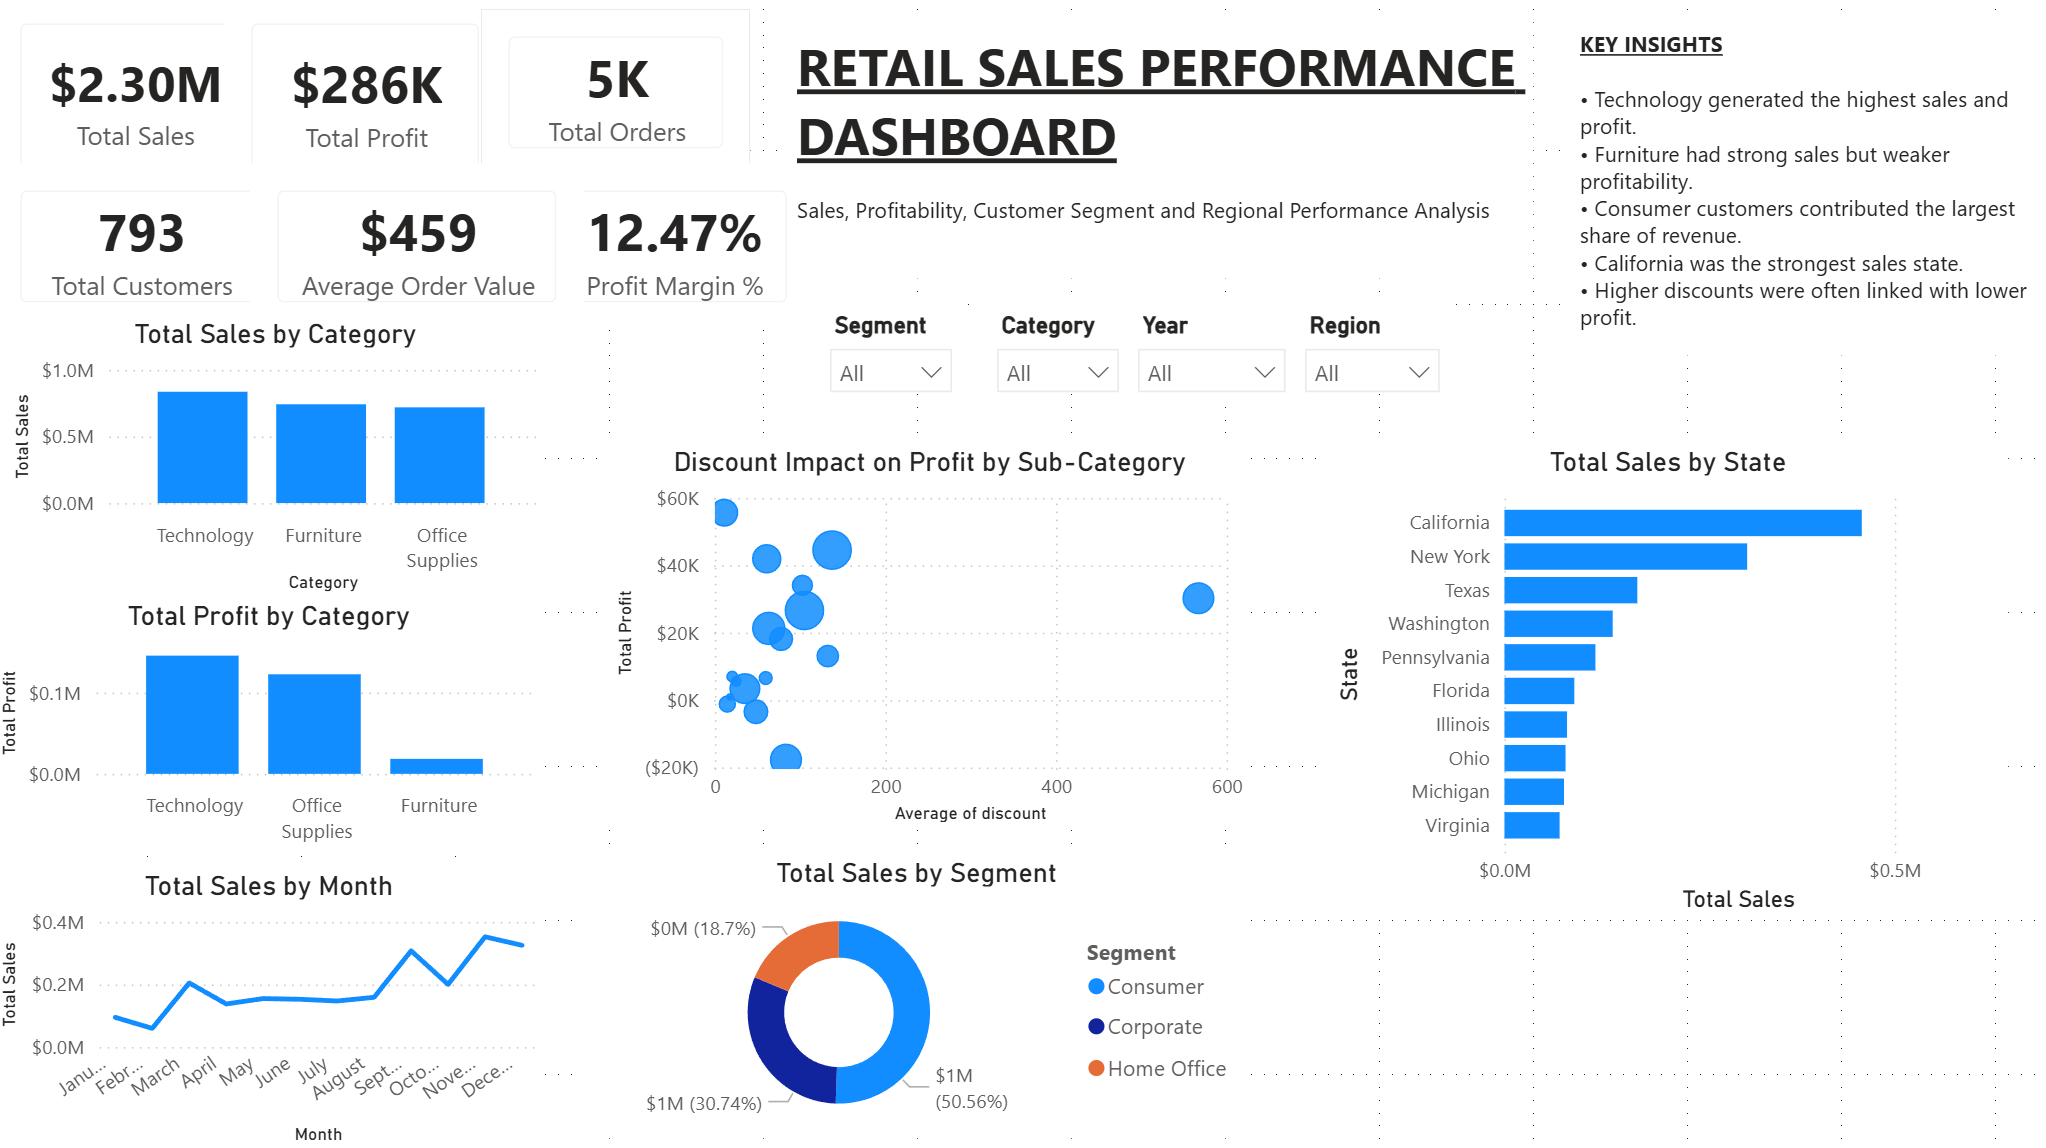

This screenshot's page, from the dashboard's own definition file:
{"tool":"powerbi","page":{"name":"Performace Dashboard","canvas":[1280,720],"ordinal":0},"visuals":[{"type":"cardVisual","fields":{"Data":["superstore_cleaned.Total Sales"]},"box":[0,0,176,128],"z":0},{"type":"cardVisual","fields":{"Data":["superstore_cleaned.Total Profit"]},"box":[144,0,176,128],"z":1000},{"type":"cardVisual","fields":{"Data":["superstore_cleaned.Total Orders"]},"box":[304,8,168,104],"z":2000},{"type":"cardVisual","fields":{"Data":["superstore_cleaned.Total Customers"]},"box":[0,104,184,104],"z":3000},{"type":"cardVisual","fields":{"Data":["superstore_cleaned.Profit Margin %"]},"box":[336,104,176,104],"z":4000},{"type":"cardVisual","fields":{"Data":["superstore_cleaned.Average Order Value"]},"box":[160,104,208,104],"z":5000},{"type":"textbox","box":[496,16,464,160],"z":6000},{"type":"lineChart","fields":{"Category":["superstore_cleaned.order_date.Variation.Date Hierarchy.Year","superstore_cleaned.order_date.Variation.Date Hierarchy.Quarter","superstore_cleaned.order_date.Variation.Date Hierarchy.Month","superstore_cleaned.order_date.Variation.Date Hierarchy.Day"],"Y":["superstore_cleaned.Total Sales"]},"box":[0,544,344,176],"z":7000},{"type":"clusteredColumnChart","title":"Total Sales by Category","fields":{"Category":["superstore_cleaned.category"],"Y":["superstore_cleaned.Total Sales"]},"box":[8,200,336,176],"z":8000},{"type":"clusteredColumnChart","title":"Total Profit by Category","fields":{"Category":["superstore_cleaned.category"],"Y":["superstore_cleaned.Total Profit"]},"box":[0,376,344,160],"z":9000},{"type":"donutChart","title":"Total Sales by Segment","fields":{"Category":["superstore_cleaned.segment"],"Y":["superstore_cleaned.Total Sales"]},"box":[368,536,416,176],"z":10000},{"type":"clusteredBarChart","title":"Total Sales by State","fields":{"Category":["superstore_cleaned.state"],"Y":["superstore_cleaned.Total Sales"]},"box":[832,280,424,296],"z":11000},{"type":"scatterChart","title":"Discount Impact on Profit by Sub-Category","fields":{"X":["Sum(superstore_cleaned.discount)"],"Y":["superstore_cleaned.Total Profit"],"Size":["superstore_cleaned.Total Sales"],"Category":["superstore_cleaned.sub_category"]},"box":[384,280,400,240],"z":12000},{"type":"slicer","fields":{"Values":["superstore_cleaned.order_year"]},"box":[704,192,112,64],"z":13000},{"type":"slicer","fields":{"Values":["superstore_cleaned.category"]},"box":[616,192,96,56],"z":14000},{"type":"slicer","fields":{"Values":["superstore_cleaned.region"]},"box":[808,192,104,56],"z":15000},{"type":"slicer","fields":{"Values":["superstore_cleaned.segment"]},"box":[512,192,96,56],"z":16000},{"type":"textbox","box":[984,16,296,208],"z":17000}]}

Visuals, with their boxes in screenshot pixels (x1, y1, x2, y2), scaled from the page's 1280x720 canvas onto the 2046x1148 screenshot:
cardVisual - superstore_cleaned.Total Sales: {"left": 0, "top": 0, "right": 281, "bottom": 204}
cardVisual - superstore_cleaned.Total Profit: {"left": 230, "top": 0, "right": 512, "bottom": 204}
cardVisual - superstore_cleaned.Total Orders: {"left": 486, "top": 13, "right": 754, "bottom": 179}
cardVisual - superstore_cleaned.Total Customers: {"left": 0, "top": 166, "right": 294, "bottom": 332}
cardVisual - superstore_cleaned.Profit Margin %: {"left": 537, "top": 166, "right": 818, "bottom": 332}
cardVisual - superstore_cleaned.Average Order Value: {"left": 256, "top": 166, "right": 588, "bottom": 332}
textbox: {"left": 793, "top": 26, "right": 1534, "bottom": 281}
lineChart - superstore_cleaned.order_date.Variation.Date Hierarchy.Year x superstore_cleaned.order_date.Variation.Date Hierarchy.Quarter: {"left": 0, "top": 867, "right": 550, "bottom": 1147}
"Total Sales by Category" clusteredColumnChart: {"left": 13, "top": 319, "right": 550, "bottom": 600}
"Total Profit by Category" clusteredColumnChart: {"left": 0, "top": 600, "right": 550, "bottom": 855}
"Total Sales by Segment" donutChart: {"left": 588, "top": 855, "right": 1253, "bottom": 1135}
"Total Sales by State" clusteredBarChart: {"left": 1330, "top": 446, "right": 2008, "bottom": 918}
"Discount Impact on Profit by Sub-Category" scatterChart: {"left": 614, "top": 446, "right": 1253, "bottom": 829}
slicer - superstore_cleaned.order_year: {"left": 1125, "top": 306, "right": 1304, "bottom": 408}
slicer - superstore_cleaned.category: {"left": 985, "top": 306, "right": 1138, "bottom": 395}
slicer - superstore_cleaned.region: {"left": 1292, "top": 306, "right": 1458, "bottom": 395}
slicer - superstore_cleaned.segment: {"left": 818, "top": 306, "right": 972, "bottom": 395}
textbox: {"left": 1573, "top": 26, "right": 2045, "bottom": 357}
